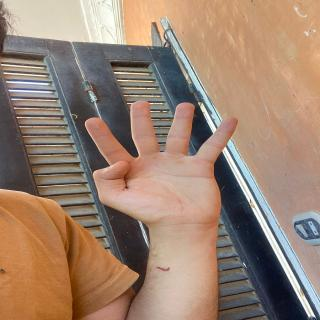SHEEN: (75, 92, 244, 232)
